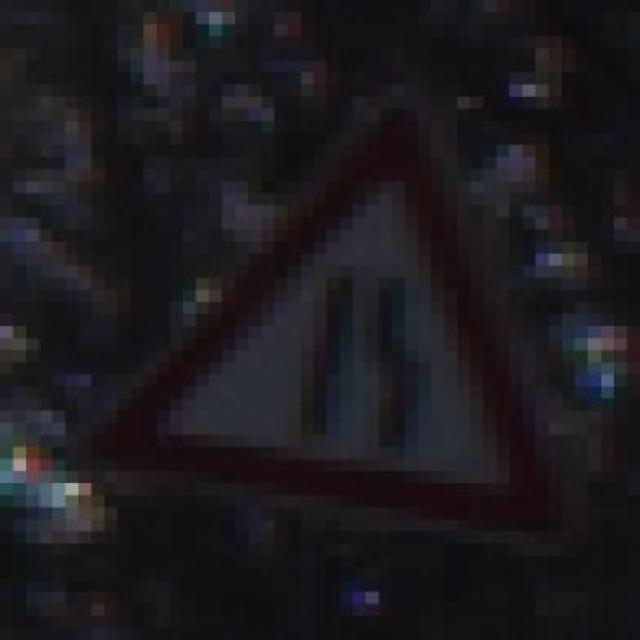-Road narrows on right: (91, 72, 574, 568)
